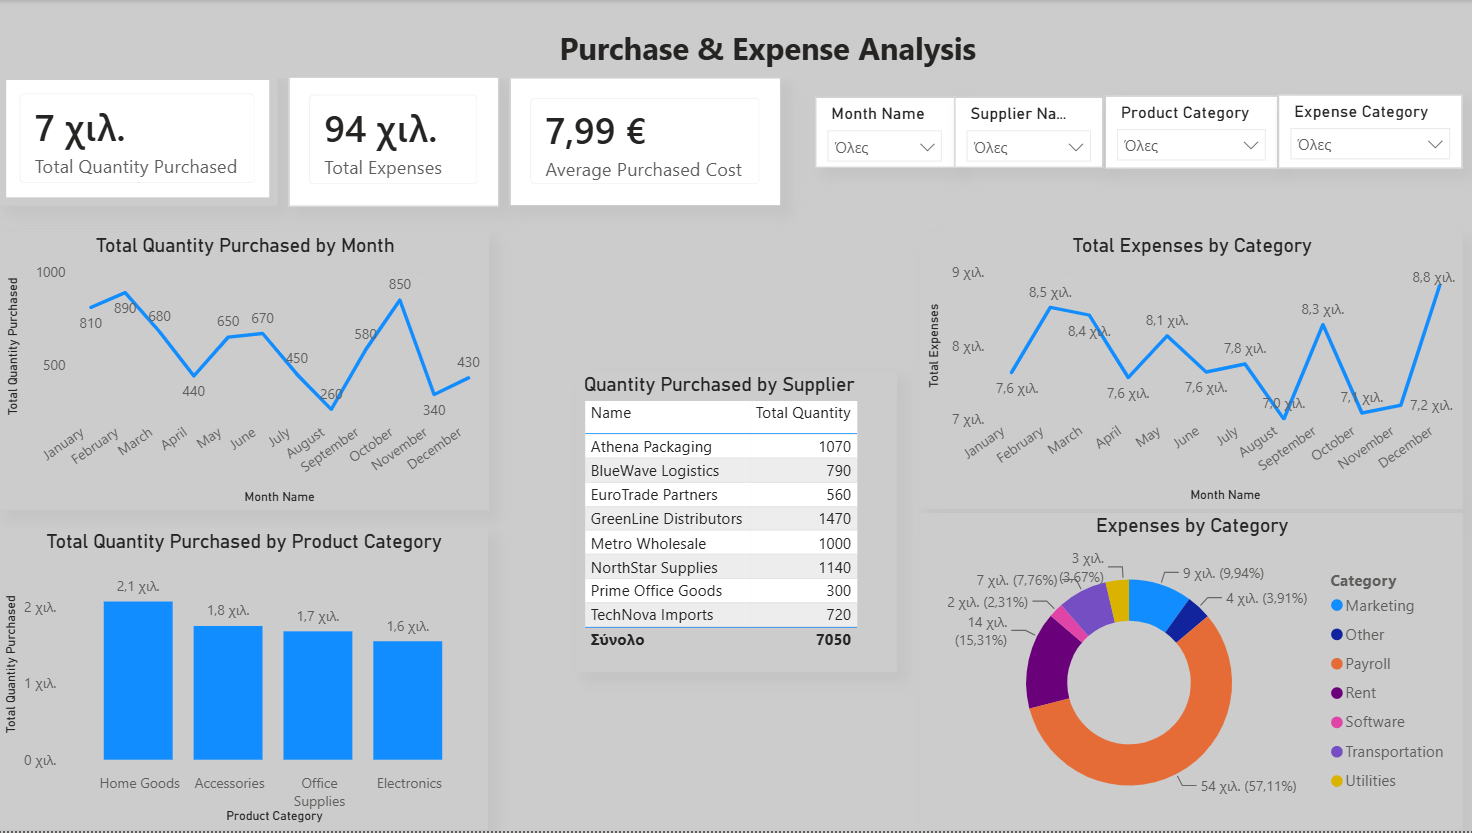

This screenshot's page, from the dashboard's own definition file:
{"tool":"powerbi","page":{"name":"Purchase & Expenses","canvas":[1280,720],"ordinal":2},"visuals":[{"type":"cardVisual","fields":{"Data":["Sum(purchases.quantity_purchased)"]},"box":[1.1,63.7,241,114.6],"z":0},{"type":"cardVisual","fields":{"Data":["Sum(expenses.amount)"]},"box":[252.1,63.9,182.2,114.8],"z":1},{"type":"cardVisual","fields":{"Data":["calendar.Average Purchased Cost"]},"box":[443.8,67.5,235.5,111.2],"z":2},{"type":"lineChart","title":"Total Quantity Purchased by Month","fields":{"Category":["calendar.month_name"],"Y":["Sum(purchases.quantity_purchased)"]},"box":[1.2,201.2,424.9,240.2],"z":3},{"type":"clusteredColumnChart","title":"Total Quantity Purchased by Product Category","fields":{"Y":["Sum(purchases.quantity_purchased)"],"Category":["products.product_category"]},"box":[0,459.2,424.9,260.4],"z":4},{"type":"tableEx","title":"Quantity Purchased by Supplier","fields":{"Values":["suppliers.supplier_name","Sum(purchases.quantity_purchased)"]},"box":[501.8,321.9,276.9,260.4],"z":5},{"type":"lineChart","title":"Total Expenses by Category","fields":{"Category":["calendar.month_name"],"Y":["Sum(expenses.amount)"]},"box":[800,201.2,469.8,239.1],"z":6},{"type":"slicer","fields":{"Values":["calendar.month_name"]},"box":[708.9,84,120.7,61.5],"z":7},{"type":"slicer","fields":{"Values":["suppliers.supplier_name"]},"box":[829.6,84,129,61.5],"z":8},{"type":"slicer","fields":{"Values":["view.product_category"]},"box":[959.8,82.8,150.3,62.7],"z":9},{"type":"slicer","fields":{"Values":["expenses.expense_category"]},"box":[1110.1,81.7,159.8,63.9],"z":10},{"type":"donutChart","title":"Expenses by Category","fields":{"Category":["expenses.expense_category"],"Y":["Sum(expenses.amount)"]},"box":[800,445,469.8,274.6],"z":11},{"type":"textbox","box":[168,0,998.8,67.5],"z":12}]}

Visuals, with their boxes in screenshot pixels (x1, y1, x2, y2), scaled from the page's 1280x720 canvas onto the 1472x833 screenshot:
cardVisual - Sum(purchases.quantity_purchased): rect(1, 74, 278, 206)
cardVisual - Sum(expenses.amount): rect(290, 74, 499, 207)
cardVisual - calendar.Average Purchased Cost: rect(510, 78, 781, 207)
"Total Quantity Purchased by Month" lineChart: rect(1, 233, 490, 511)
"Total Quantity Purchased by Product Category" clusteredColumnChart: rect(0, 531, 489, 832)
"Quantity Purchased by Supplier" tableEx: rect(577, 372, 896, 674)
"Total Expenses by Category" lineChart: rect(920, 233, 1460, 509)
slicer - calendar.month_name: rect(815, 97, 954, 168)
slicer - suppliers.supplier_name: rect(954, 97, 1102, 168)
slicer - view.product_category: rect(1104, 96, 1277, 168)
slicer - expenses.expense_category: rect(1277, 95, 1460, 168)
"Expenses by Category" donutChart: rect(920, 515, 1460, 832)
textbox: rect(193, 0, 1342, 78)
